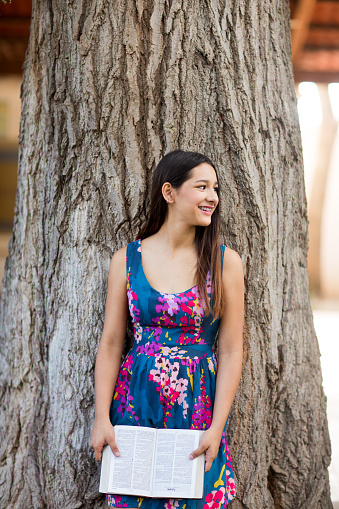em pe: (77, 135, 292, 509)
